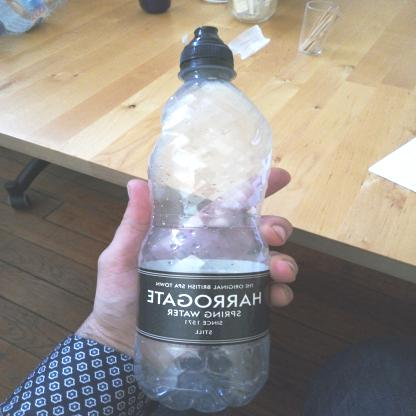bottle: (117, 11, 279, 415)
